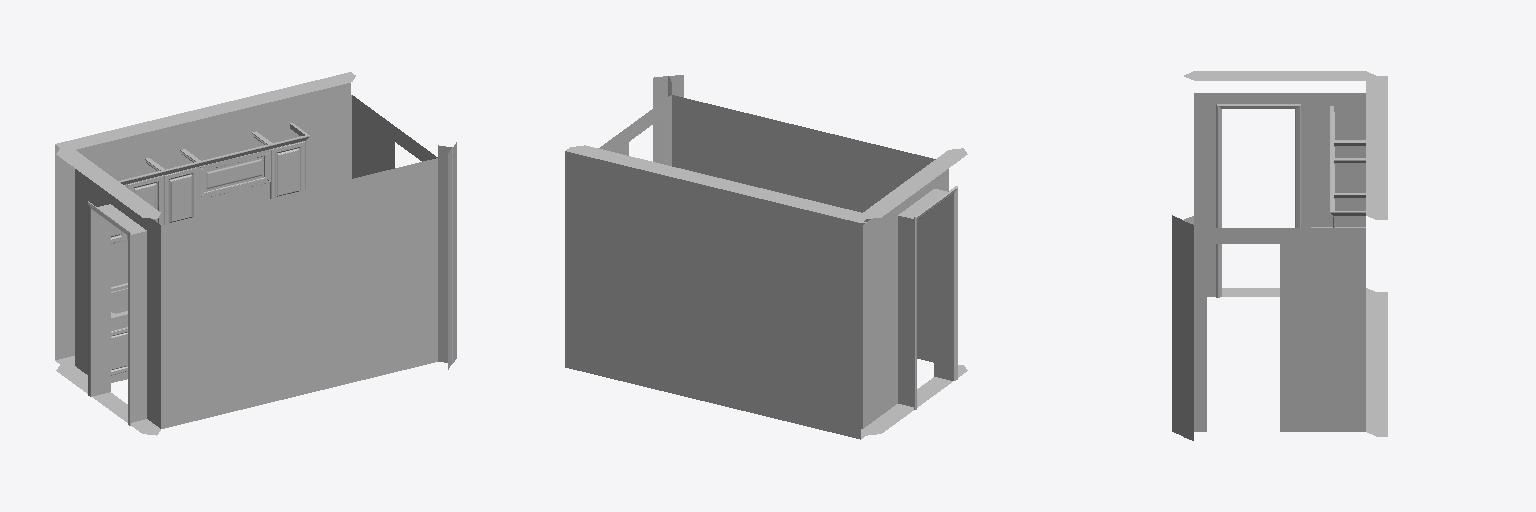
The model's file is Kitchen-3395w.obj.
3 renders of one model, left to right at view 1: azimuth 30°, elevation 25°; view 2: azimuth 150°, elevation 25°; view 3: azimuth 270°, elevation 25°, orthographic.
Size of the model in its own units: 3.98 by 2.6 by 2.36.